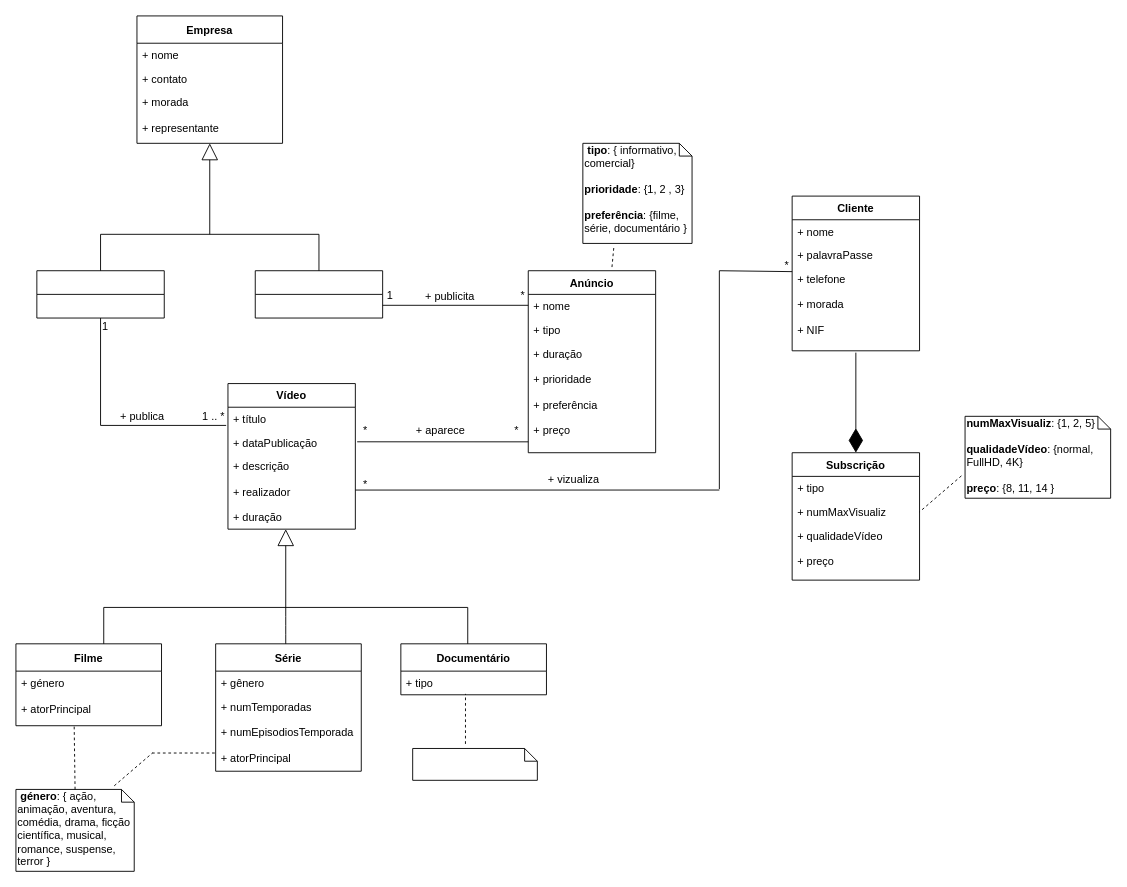
This 1127x887 diagram has some shape labels left out. Here are the shapes that lost their labels. From the top down, the centre of each, then its label:
At [100,294]: "Estúdio".
At [318,294]: "Publicidade".
At [474,764]: "tipo : { autobiográfico, informação, exposição}".
